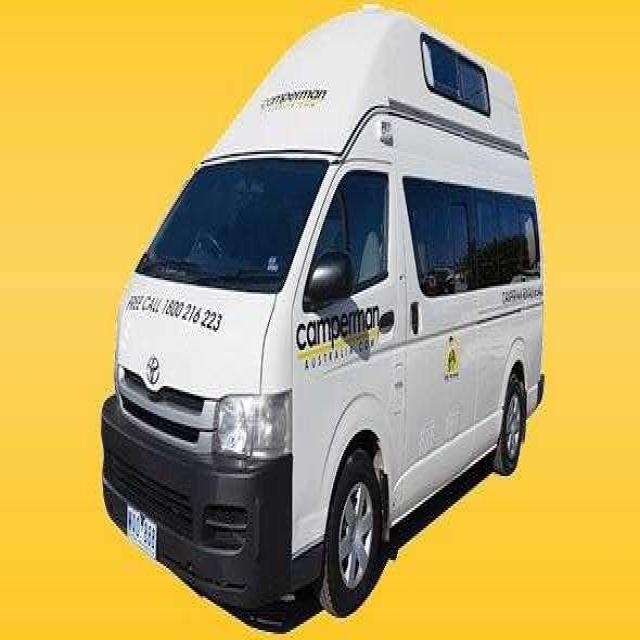Van: (99, 0, 546, 628)
